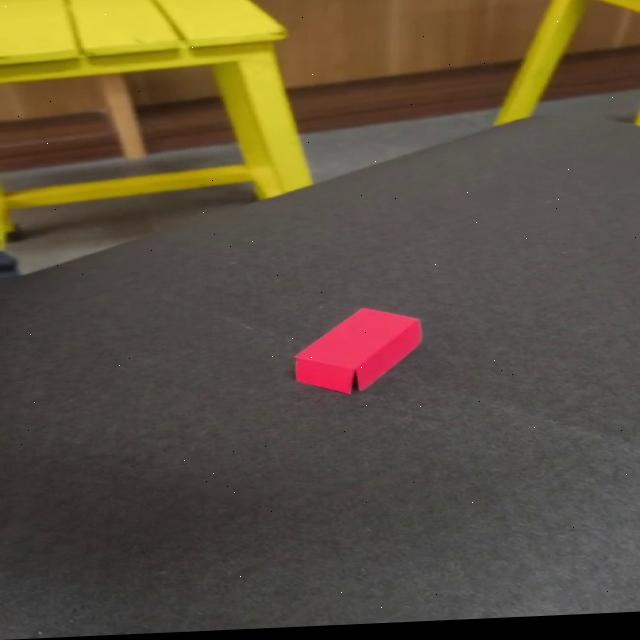red block: (292, 304, 422, 397)
